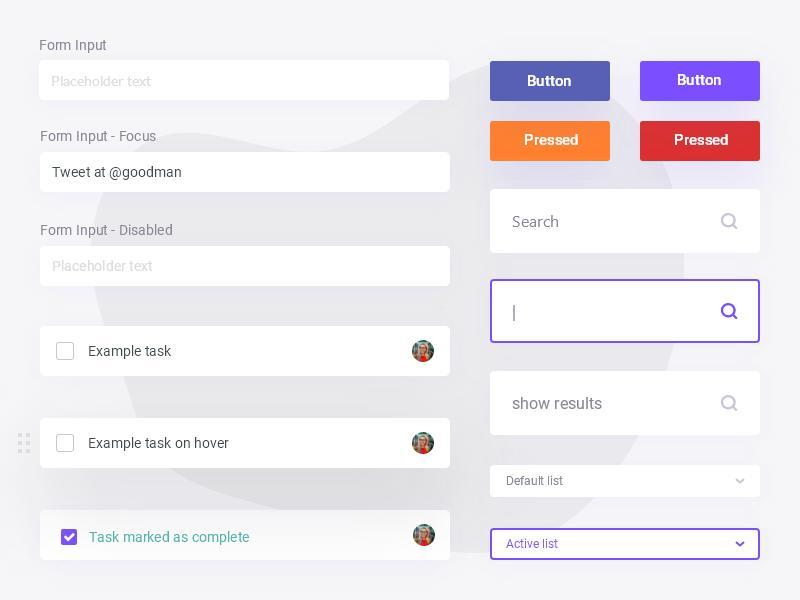button: (640, 121, 762, 164), (640, 61, 762, 103), (490, 62, 611, 103), (491, 123, 612, 162)
checkbox: (57, 434, 75, 453), (57, 343, 75, 361), (61, 530, 79, 546)
dropdown: (491, 464, 761, 502), (492, 529, 761, 560)
icon: (720, 210, 741, 234), (720, 393, 741, 416), (720, 300, 741, 322)
input: (491, 279, 761, 345), (490, 372, 762, 436), (37, 60, 450, 102), (493, 189, 762, 253), (38, 247, 449, 287), (42, 156, 453, 191)
label: (37, 217, 182, 244), (39, 123, 162, 148), (91, 529, 252, 547), (90, 435, 231, 454), (87, 343, 176, 362), (37, 34, 112, 55)
